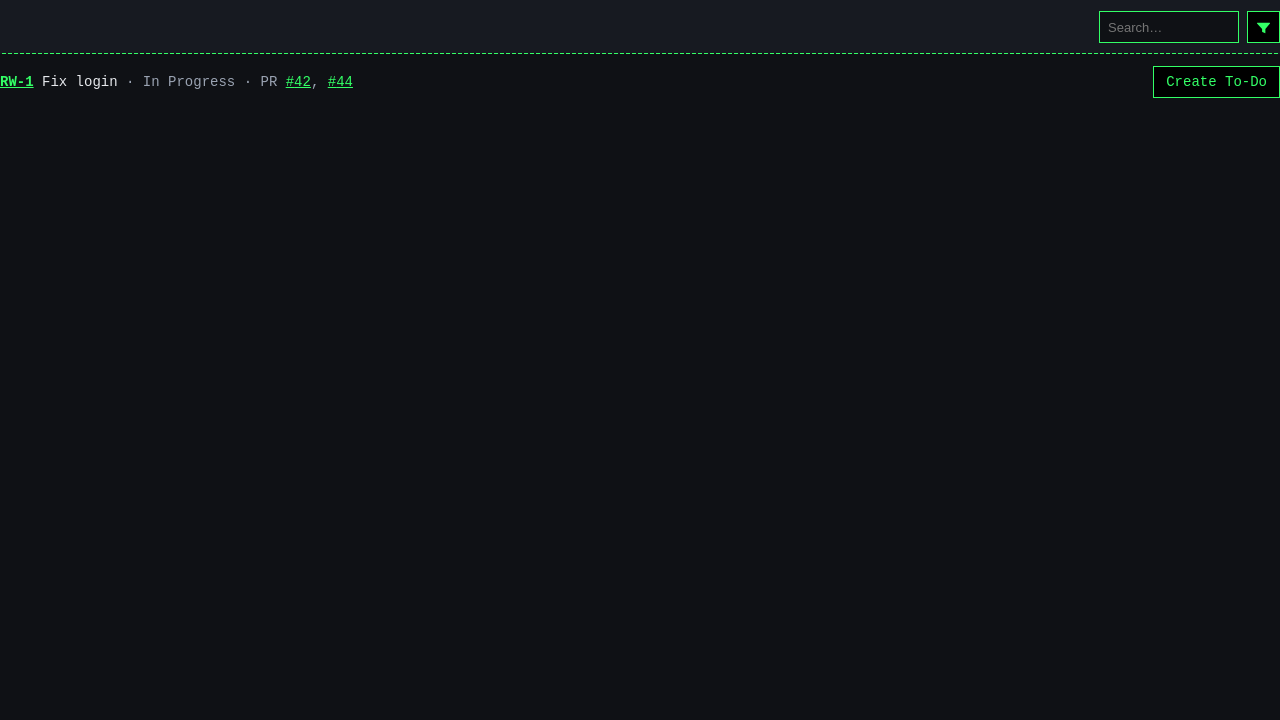
Test case: JiraPanel › shows only default statuses, and reveals others when toggled in the filter
Expected: the text "Fix login" is shown, [42, 74, 118, 90]
Expected: the text "Old thing" is not shown
Click the button named "Filter by status". click: (1264, 27)
box: [1247, 11, 1279, 43]
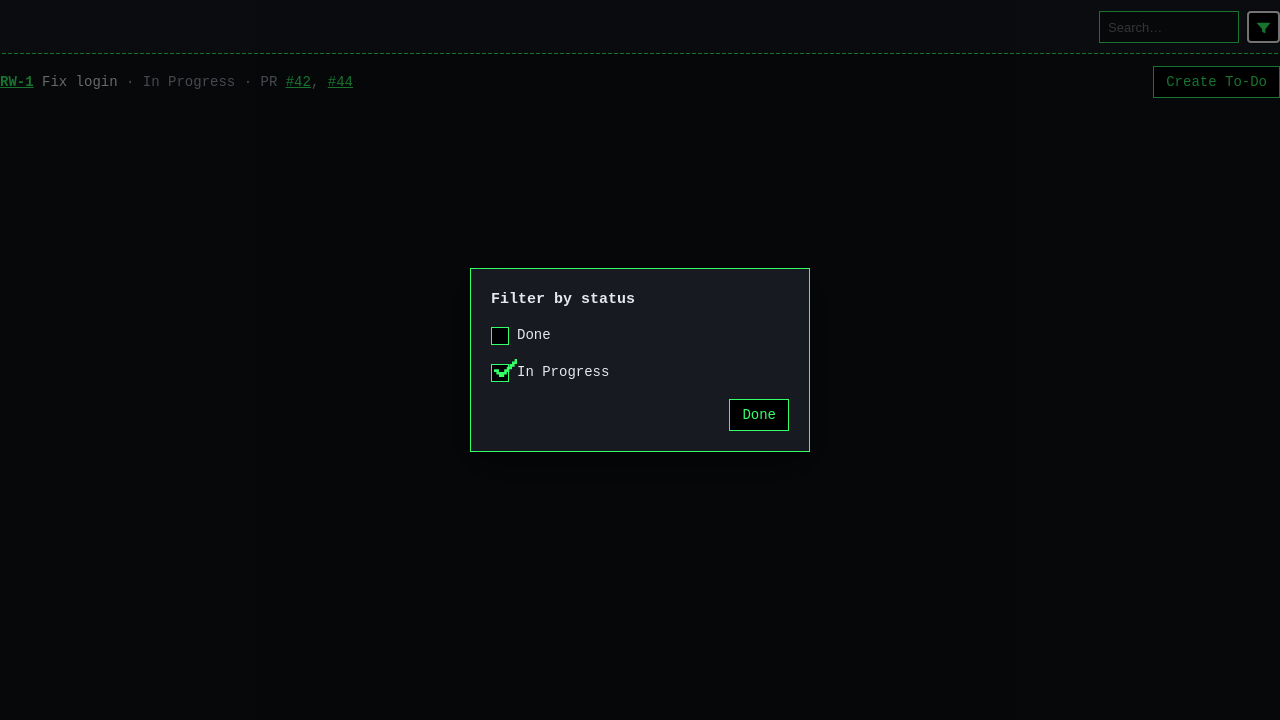
Click the checkbox labelled "Done". click: (500, 336)
box: [491, 327, 509, 345]
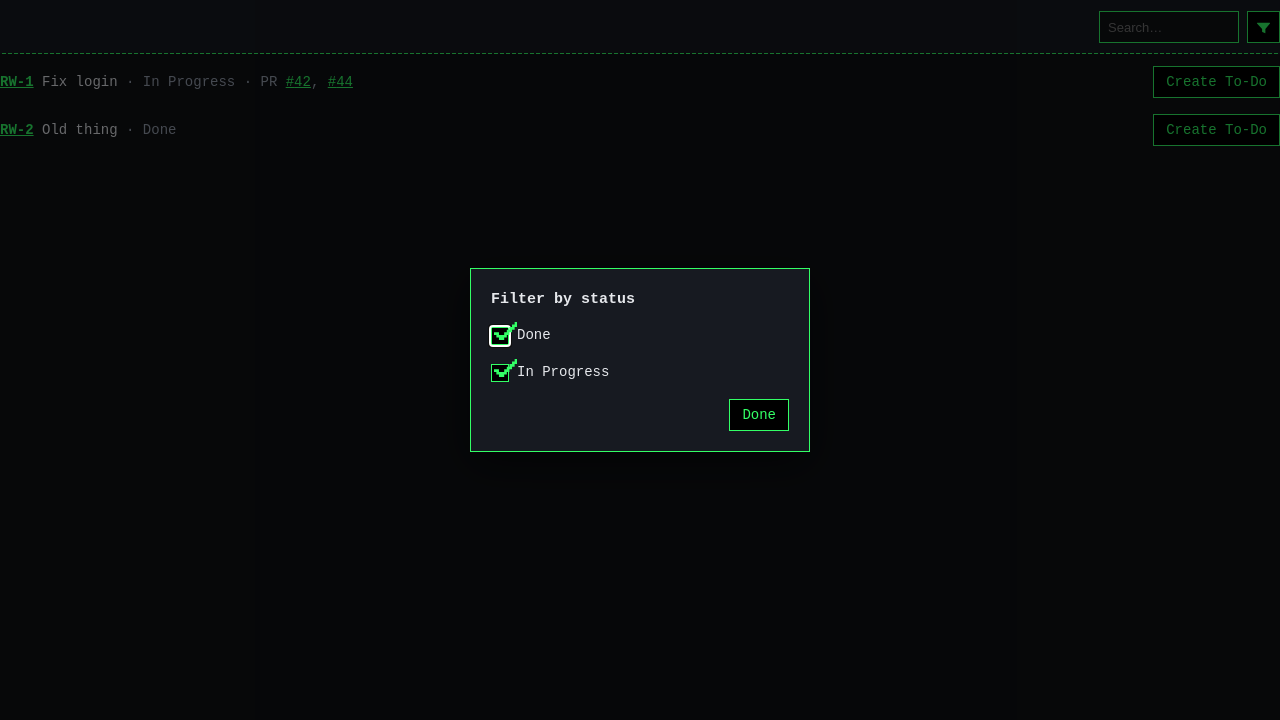
Result: the text "Old thing" is shown at [42, 122, 118, 138]
